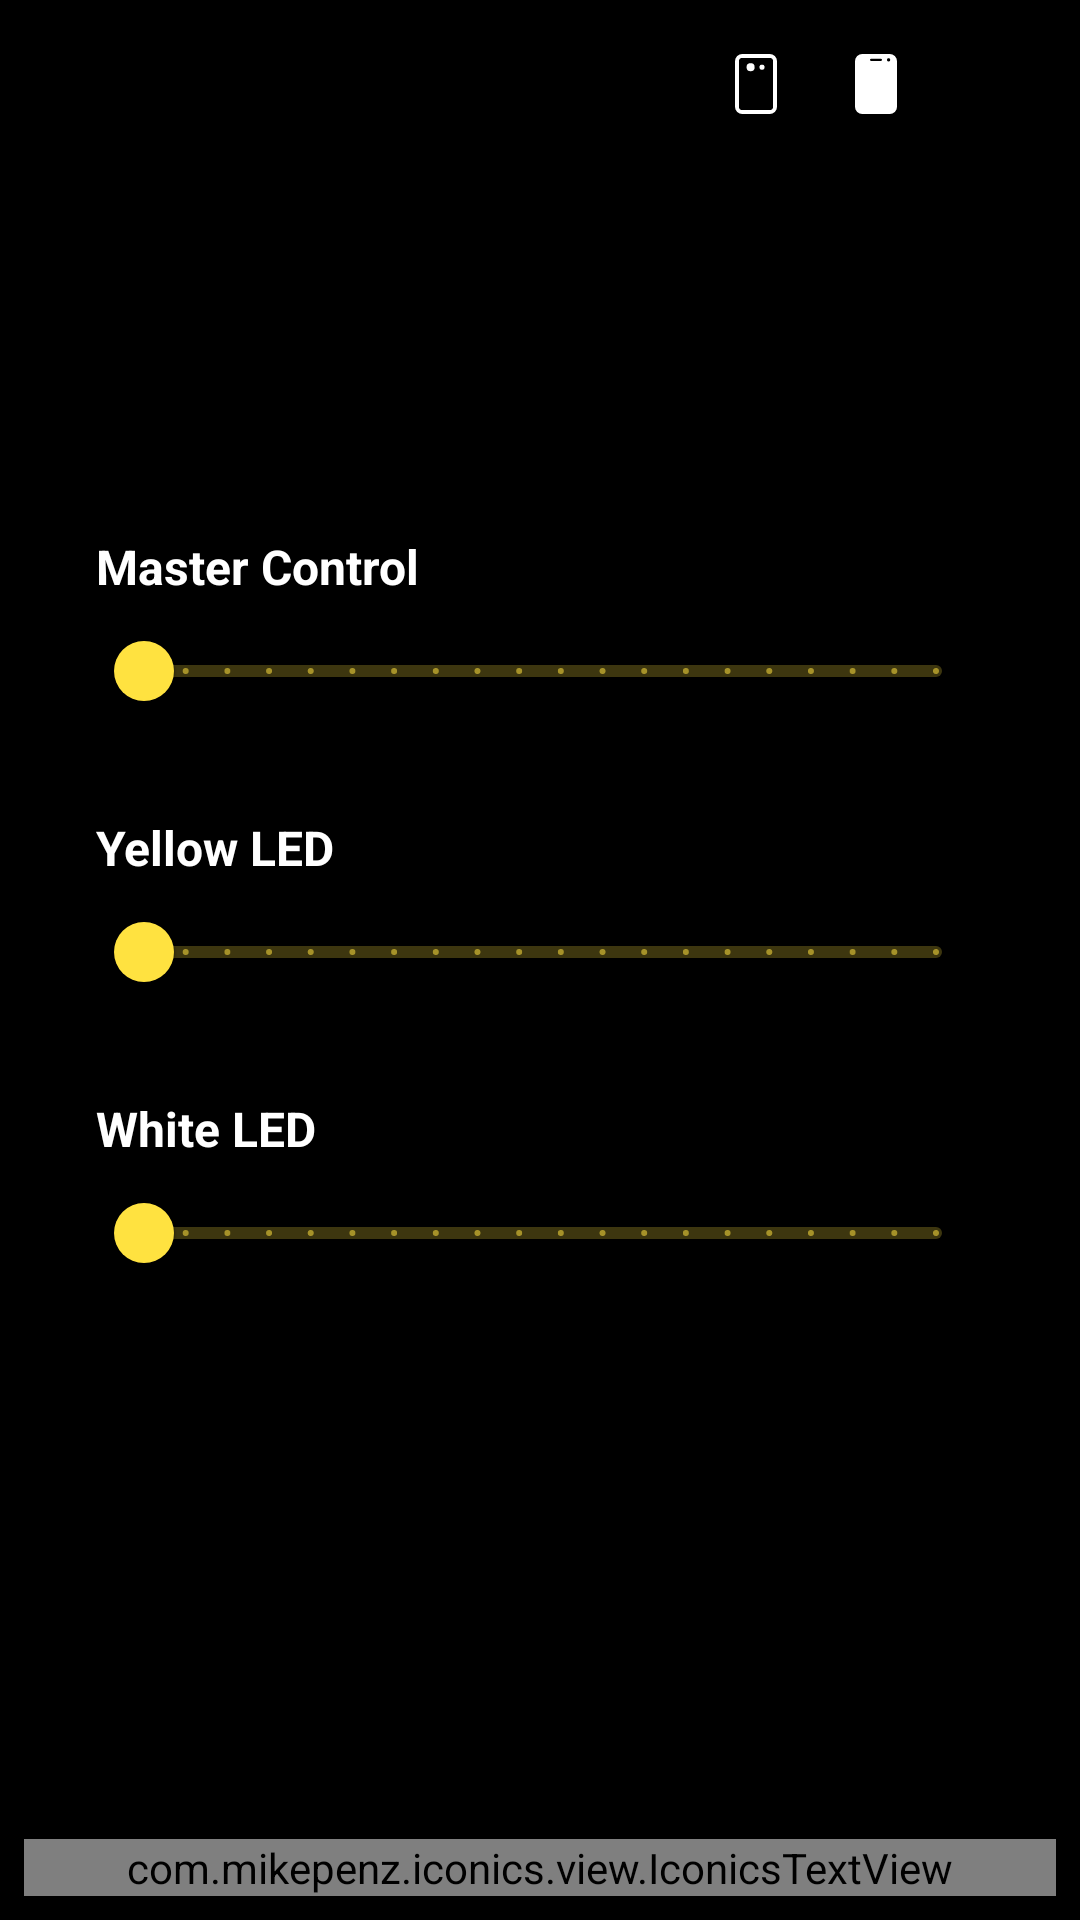

Where icons sit on this 1080x1920 app screen, as (x1, y1, x2, y2):
flash front: (855, 54, 897, 114)
flash rear: (735, 54, 777, 114)
